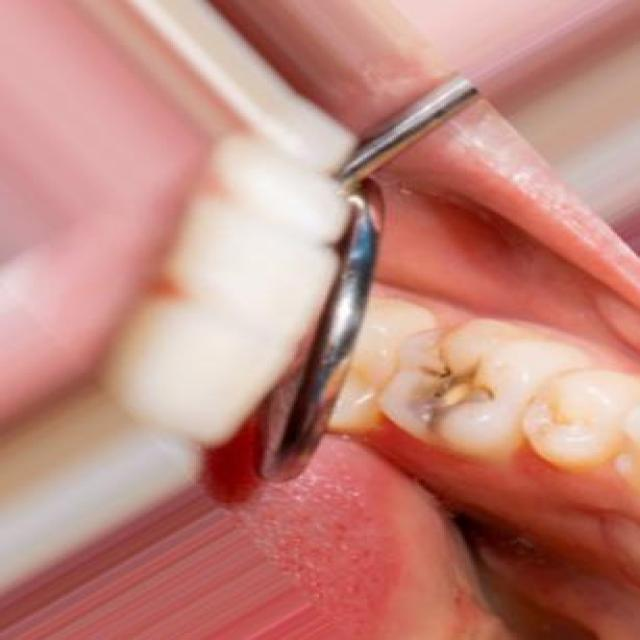caries: (376, 349, 509, 425)
